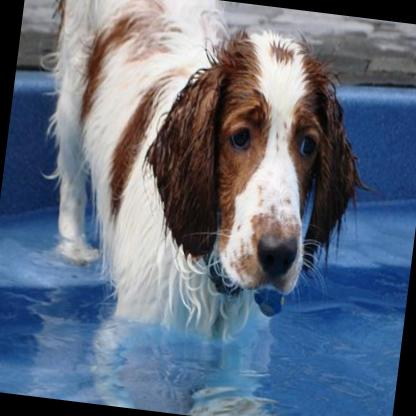Welsh_springer_spaniel: (12, 0, 393, 350)
